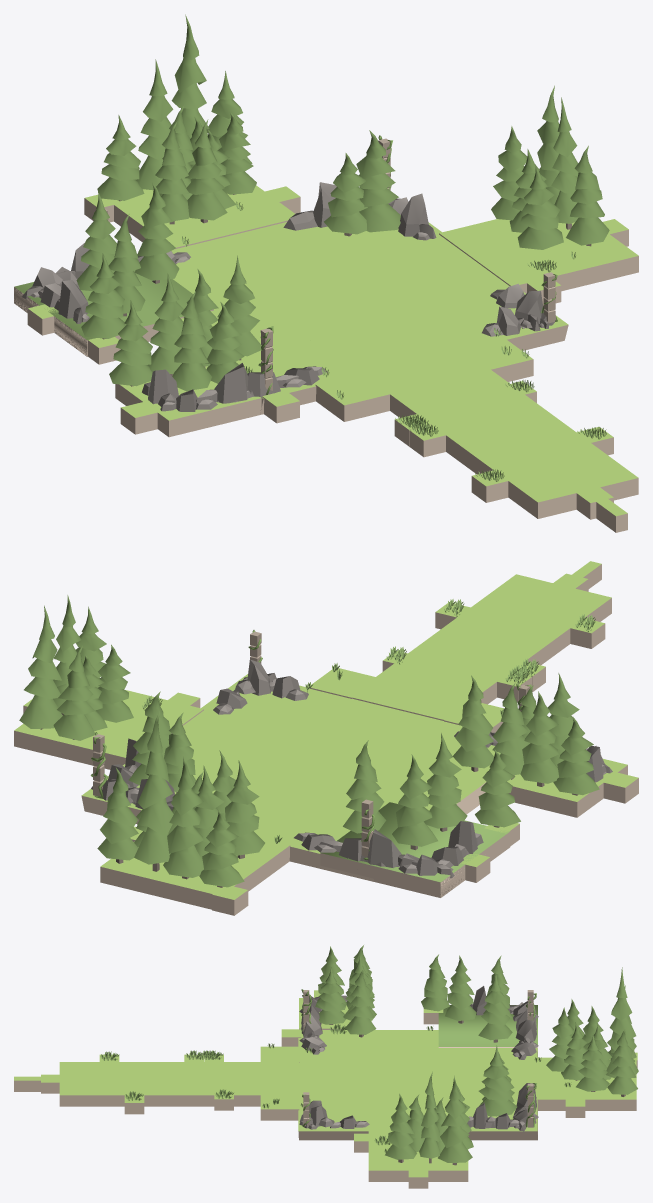
The model's file is map 1.fbx.
3 renders of one model, top to bottom at view 1: azimuth 30°, elevation 25°; view 2: azimuth 150°, elevation 25°; view 3: azimuth 270°, elevation 25°, orthographic. The views are drawn at different scales.
Visible parts, largest first — view 1: Isometric_Game_Level_Low_Poly; view 2: Isometric_Game_Level_Low_Poly; view 3: Isometric_Game_Level_Low_Poly.
Boxes of the visible parts, bbox=[...] form: Isometric_Game_Level_Low_Poly: bbox=[14, 14, 638, 532]; Isometric_Game_Level_Low_Poly: bbox=[14, 561, 638, 915]; Isometric_Game_Level_Low_Poly: bbox=[14, 945, 638, 1188].
Size of the model in its own units: 4435 by 1409 by 6271.
